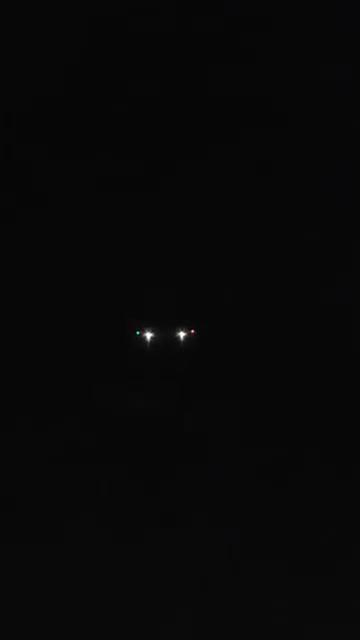Plane: (106, 289, 225, 376)
